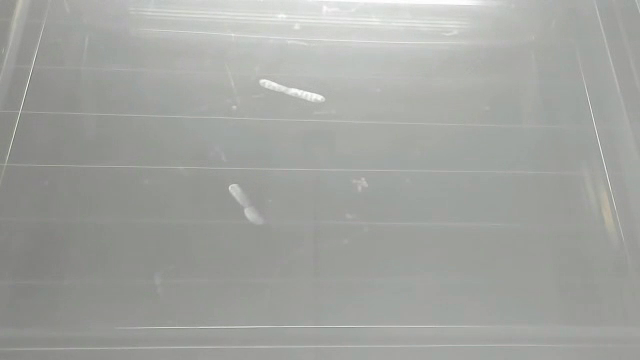alpha: (254, 76, 328, 108), (225, 180, 269, 230)
